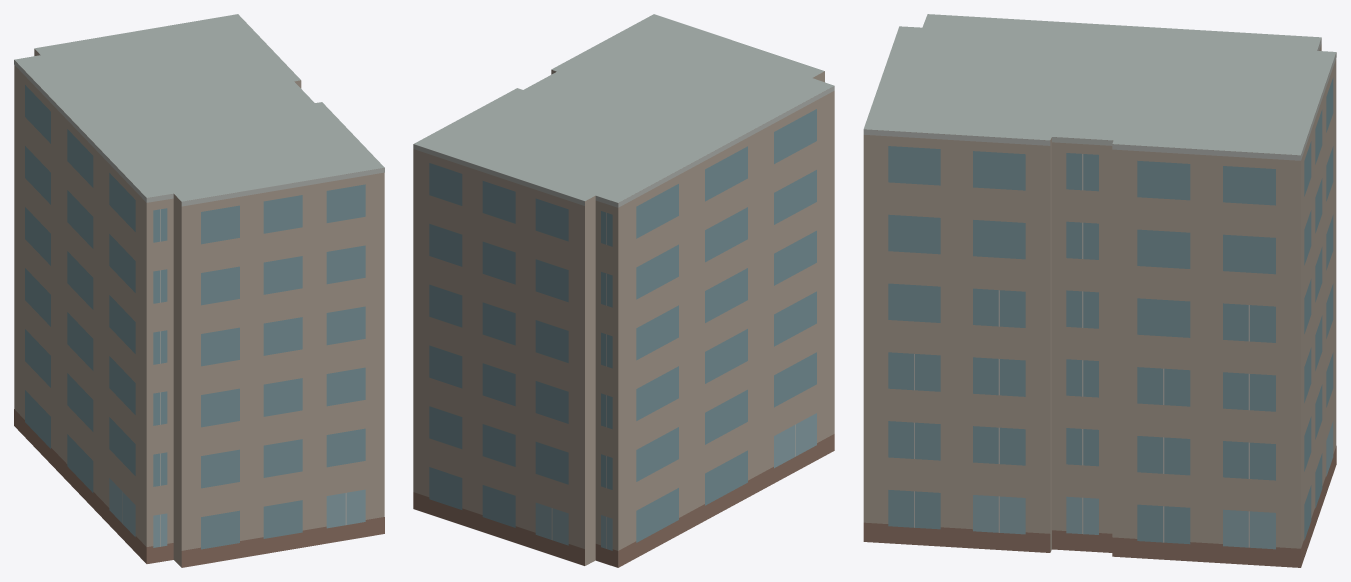
File: survey-upis-32542264.glb
3 views of the same model, side by side, from view 1: azimuth 30°, elevation 25°; view 2: azimuth 150°, elevation 25°; view 3: azimuth 270°, elevation 25° (orthographic). The views are drawn at different scales.
Parts seen in each view (by area): view 1: survey-upis-32542264.tmp; view 2: survey-upis-32542264.tmp; view 3: survey-upis-32542264.tmp.
Boxes of the visible parts, bbox=[...] form: survey-upis-32542264.tmp: bbox=[14, 14, 384, 567]; survey-upis-32542264.tmp: bbox=[413, 14, 834, 567]; survey-upis-32542264.tmp: bbox=[863, 14, 1336, 567].
Size of the model in its own units: 13.45 by 18.3 by 19.02.
